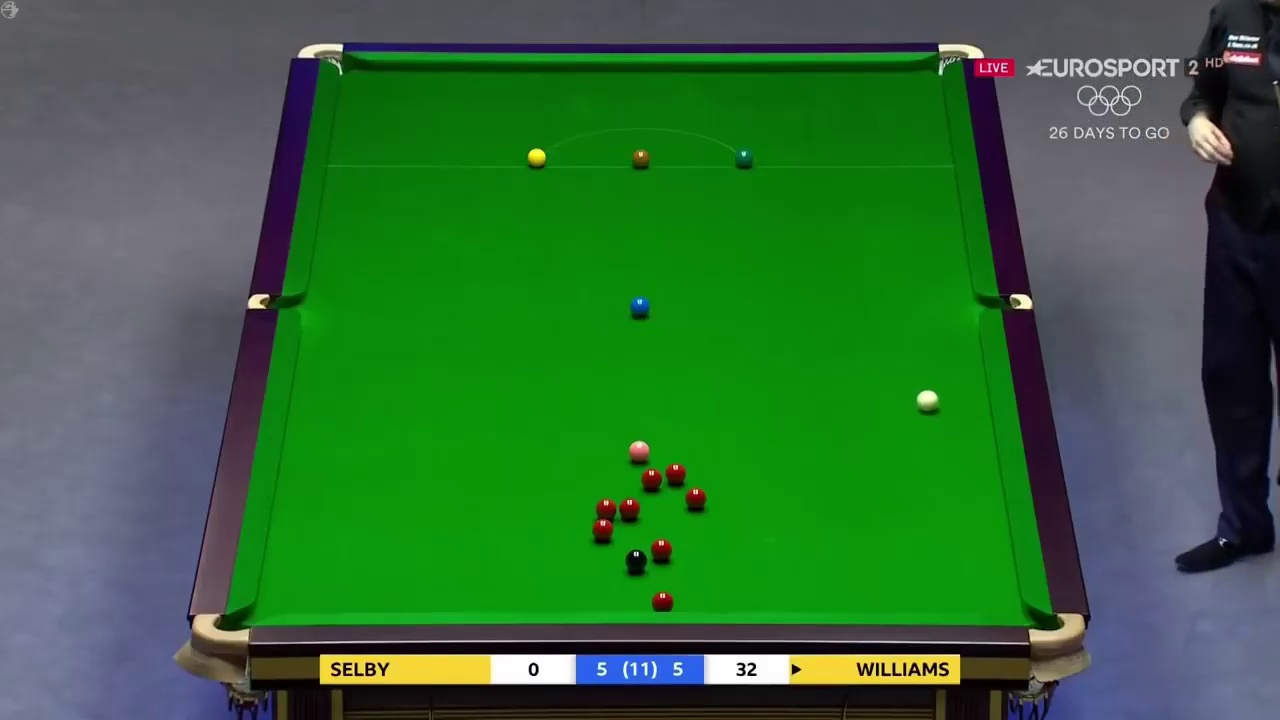black: (628, 551, 647, 576)
blue: (629, 296, 652, 318)
brown: (633, 146, 652, 167)
green: (734, 147, 752, 168)
pink: (628, 440, 651, 462)
red: (651, 538, 673, 561), (649, 591, 675, 609), (665, 465, 686, 486), (685, 487, 705, 509), (590, 517, 612, 537), (621, 498, 638, 523), (595, 500, 616, 519), (640, 470, 661, 489)
white: (917, 390, 939, 413)
yellow: (526, 144, 547, 170)
